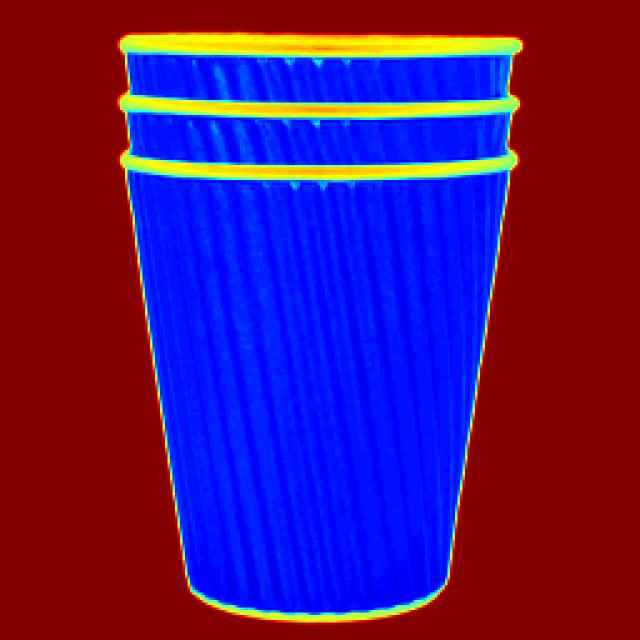Paper Cups: (115, 37, 521, 634)
